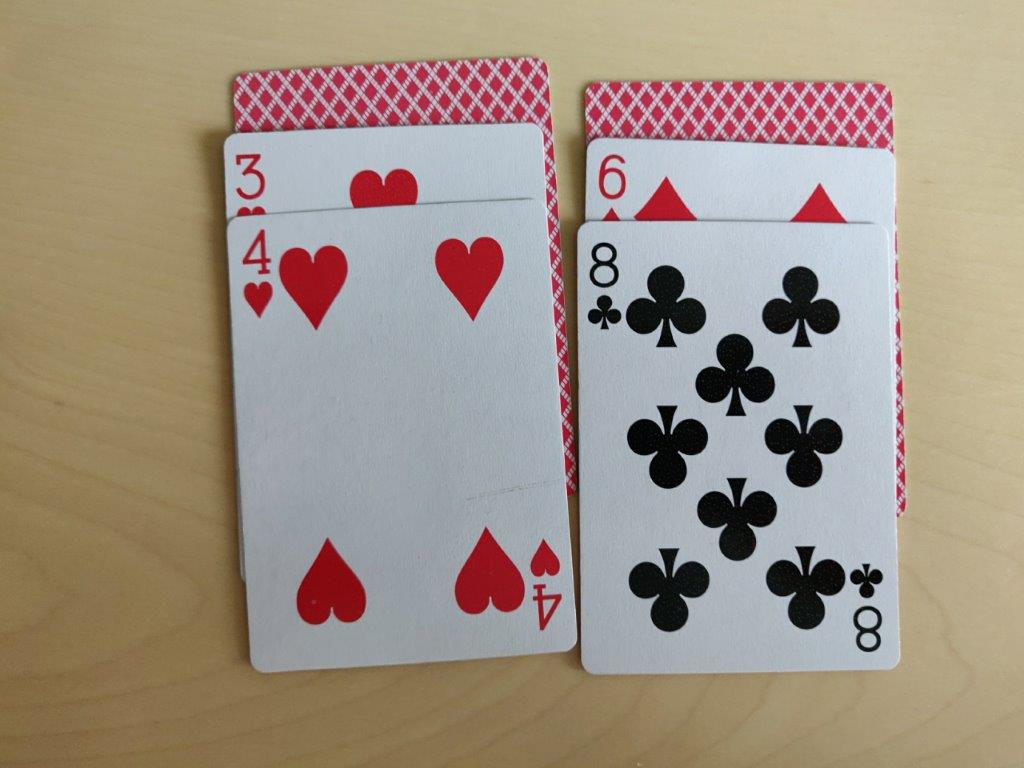3H: (229, 143, 275, 222)
4H: (232, 223, 277, 325)
6D: (595, 149, 628, 227)
8C: (582, 238, 624, 332)
BACK: (220, 49, 556, 126), (591, 80, 895, 148)
